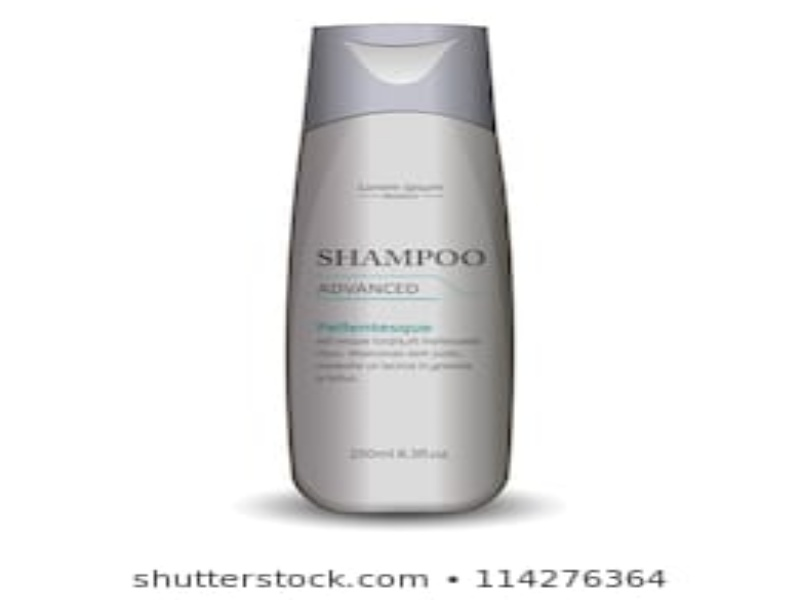shampoo-bottle: (281, 19, 519, 521)
